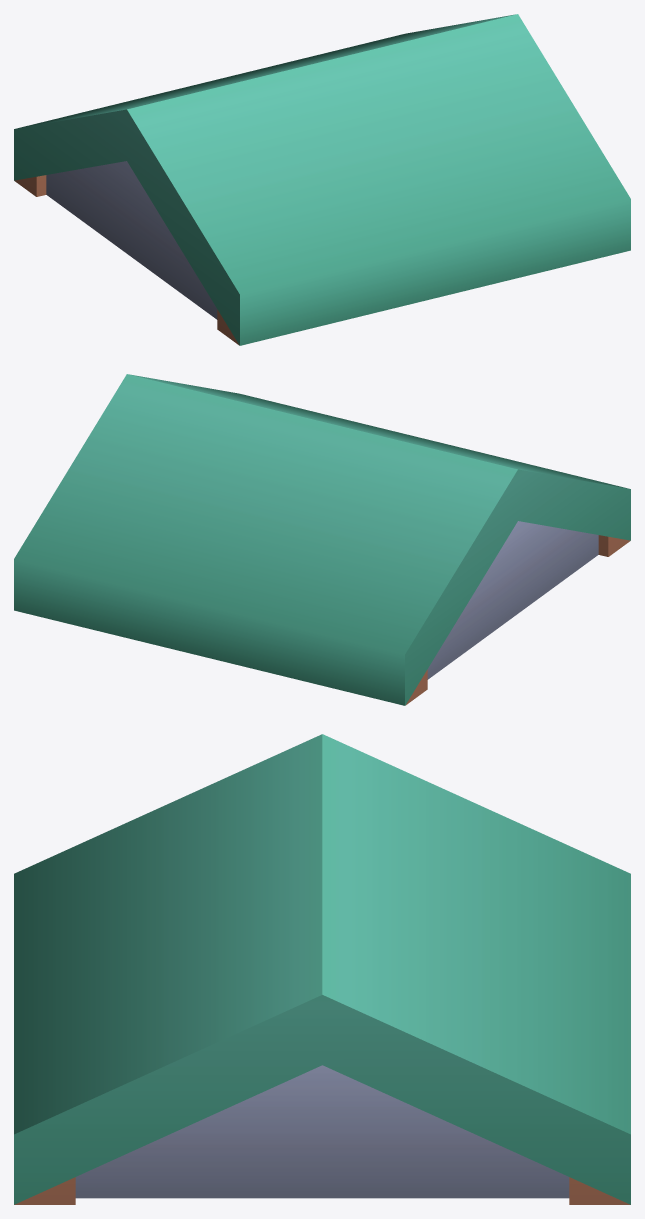
File: kenney-fantasy-town-roof-gable-top.glb
3 views of the same model, one above another, from view 1: azimuth 30°, elevation 25°; view 2: azimuth 150°, elevation 25°; view 3: azimuth 270°, elevation 25° (orthographic). The views are drawn at different scales.
Visible parts, largest first — view 1: roof-gable-top; view 2: roof-gable-top; view 3: roof-gable-top.
Part boxes in pixels (x1,y1,x2,y2): roof-gable-top: (14, 14, 630, 345); roof-gable-top: (14, 374, 630, 705); roof-gable-top: (14, 734, 630, 1204).
Bounding box in the file's own units: 1 × 0.3759 × 1.
Materials: 1 (1 with a texture image).
